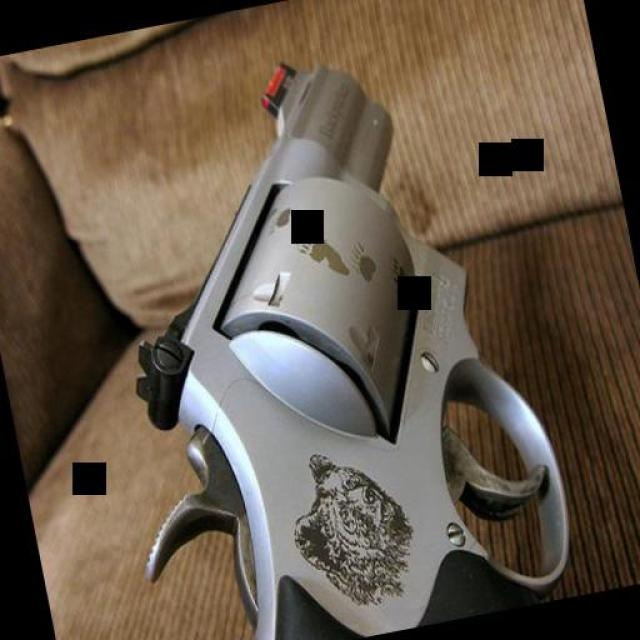gun: (45, 26, 584, 640)
